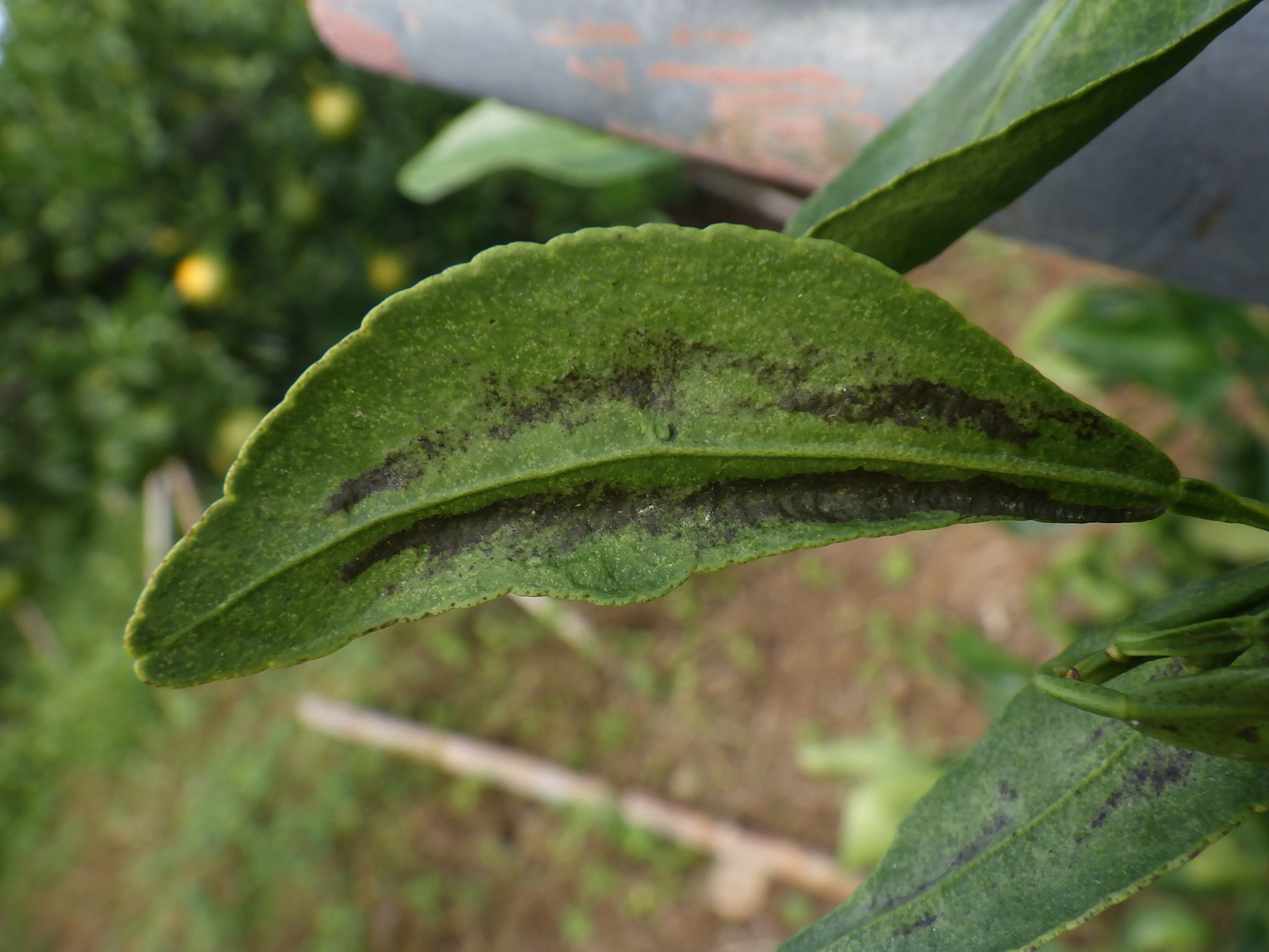Thrips_Damage: (325, 335, 1162, 582)
